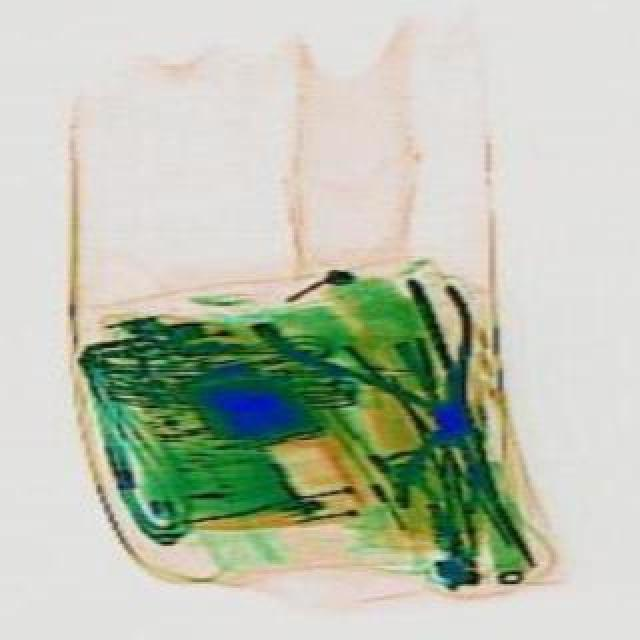wrench: (242, 250, 518, 502)
